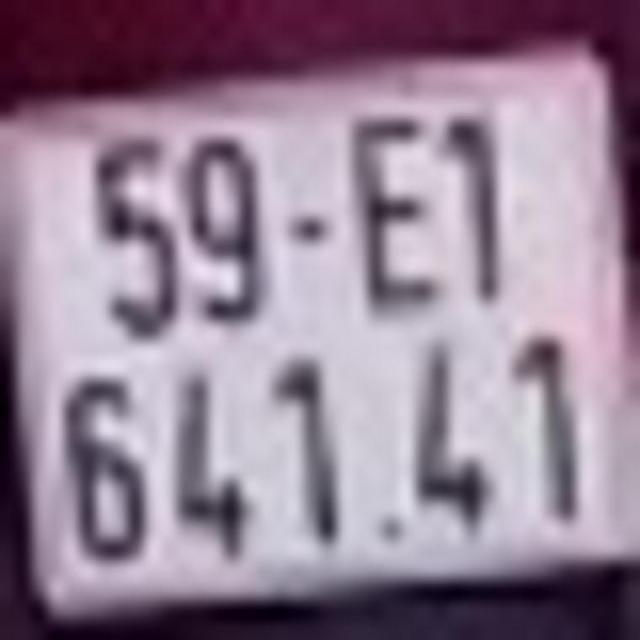1: (507, 327, 590, 528), (272, 356, 350, 550), (446, 108, 508, 306)
4: (414, 340, 494, 551), (175, 364, 250, 567)
5: (98, 130, 180, 349)
6: (59, 368, 149, 570)
9: (183, 126, 264, 330)
E: (352, 106, 442, 313)
